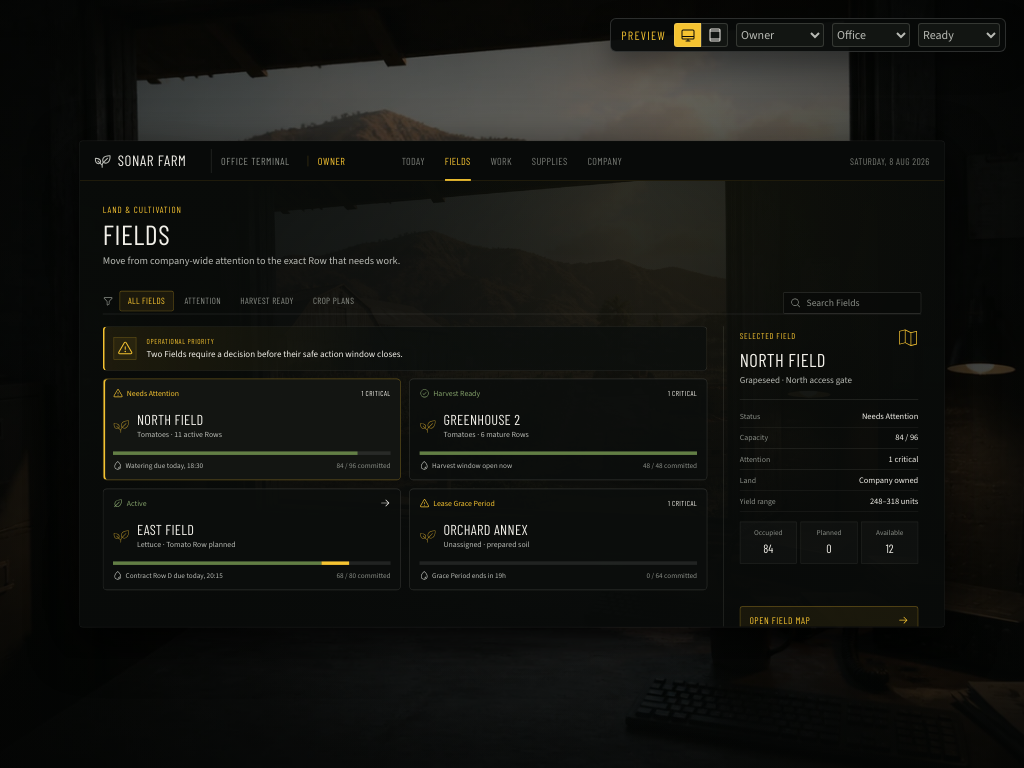
Test: Farm Business Hub › opens the selected Field without losing the Fields return path
The width and height of the screenshot is (1024, 768).
Expected: the text "Two Fields require a decision" is shown, [147,348,403,360]
Click the button "North Field". click: [153, 393]
box: [103,378,401,480]
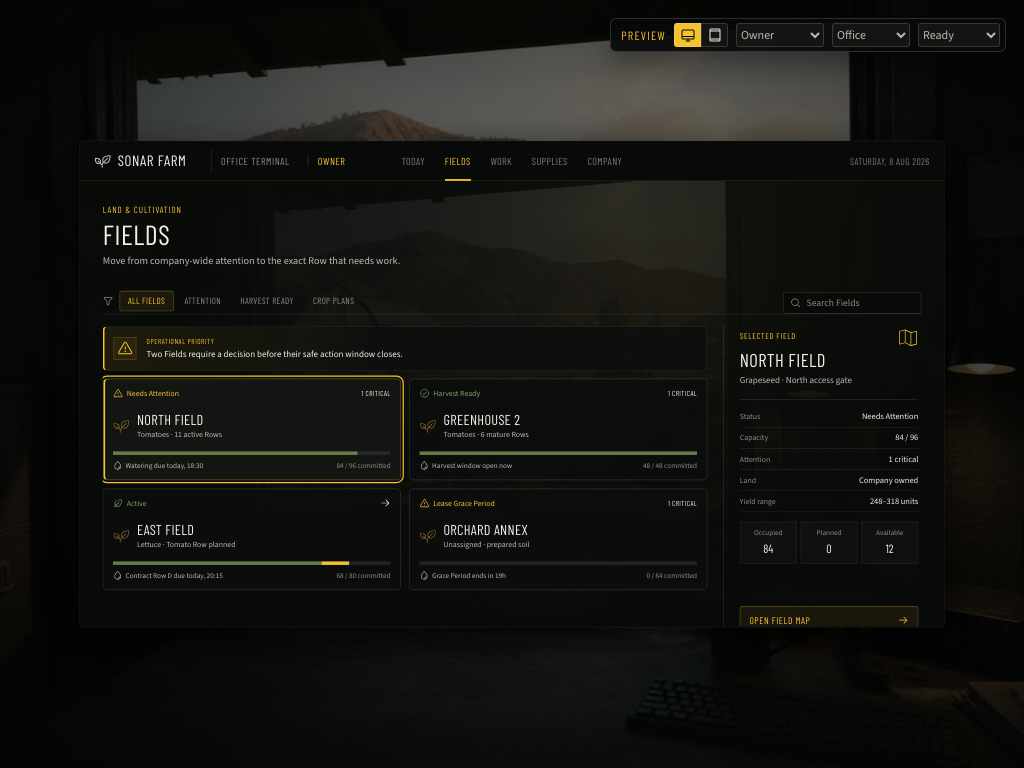
Click the button "Open Field Map". click: [829, 620]
box: [740,606,918,634]
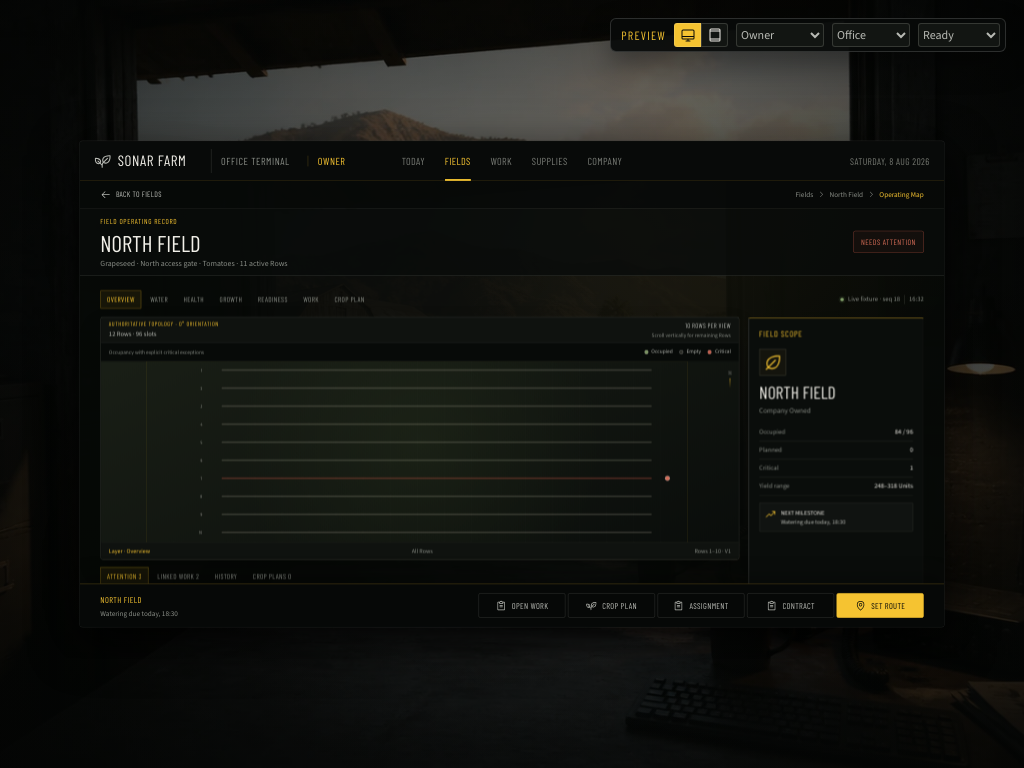
Result: the heading "North Field" below "Field operating record" is shown at [100,229,201,257]
Result: the button "Back to Fields" is shown at [100,188,162,200]
